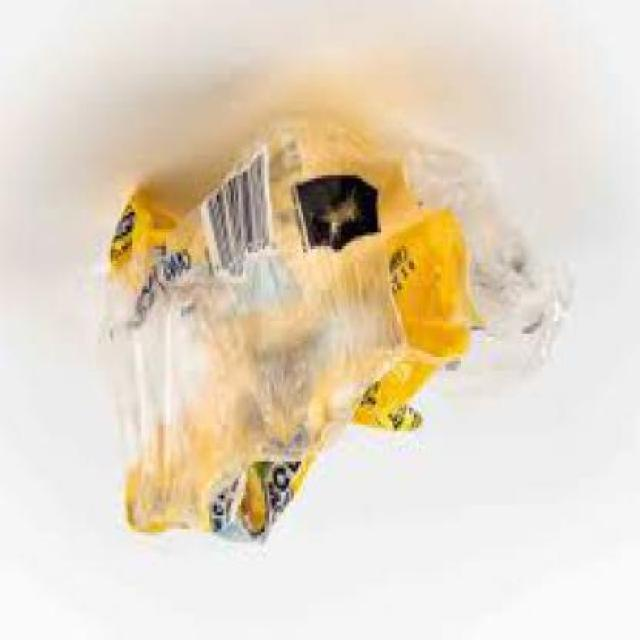PLASTIC: (106, 111, 562, 537)
